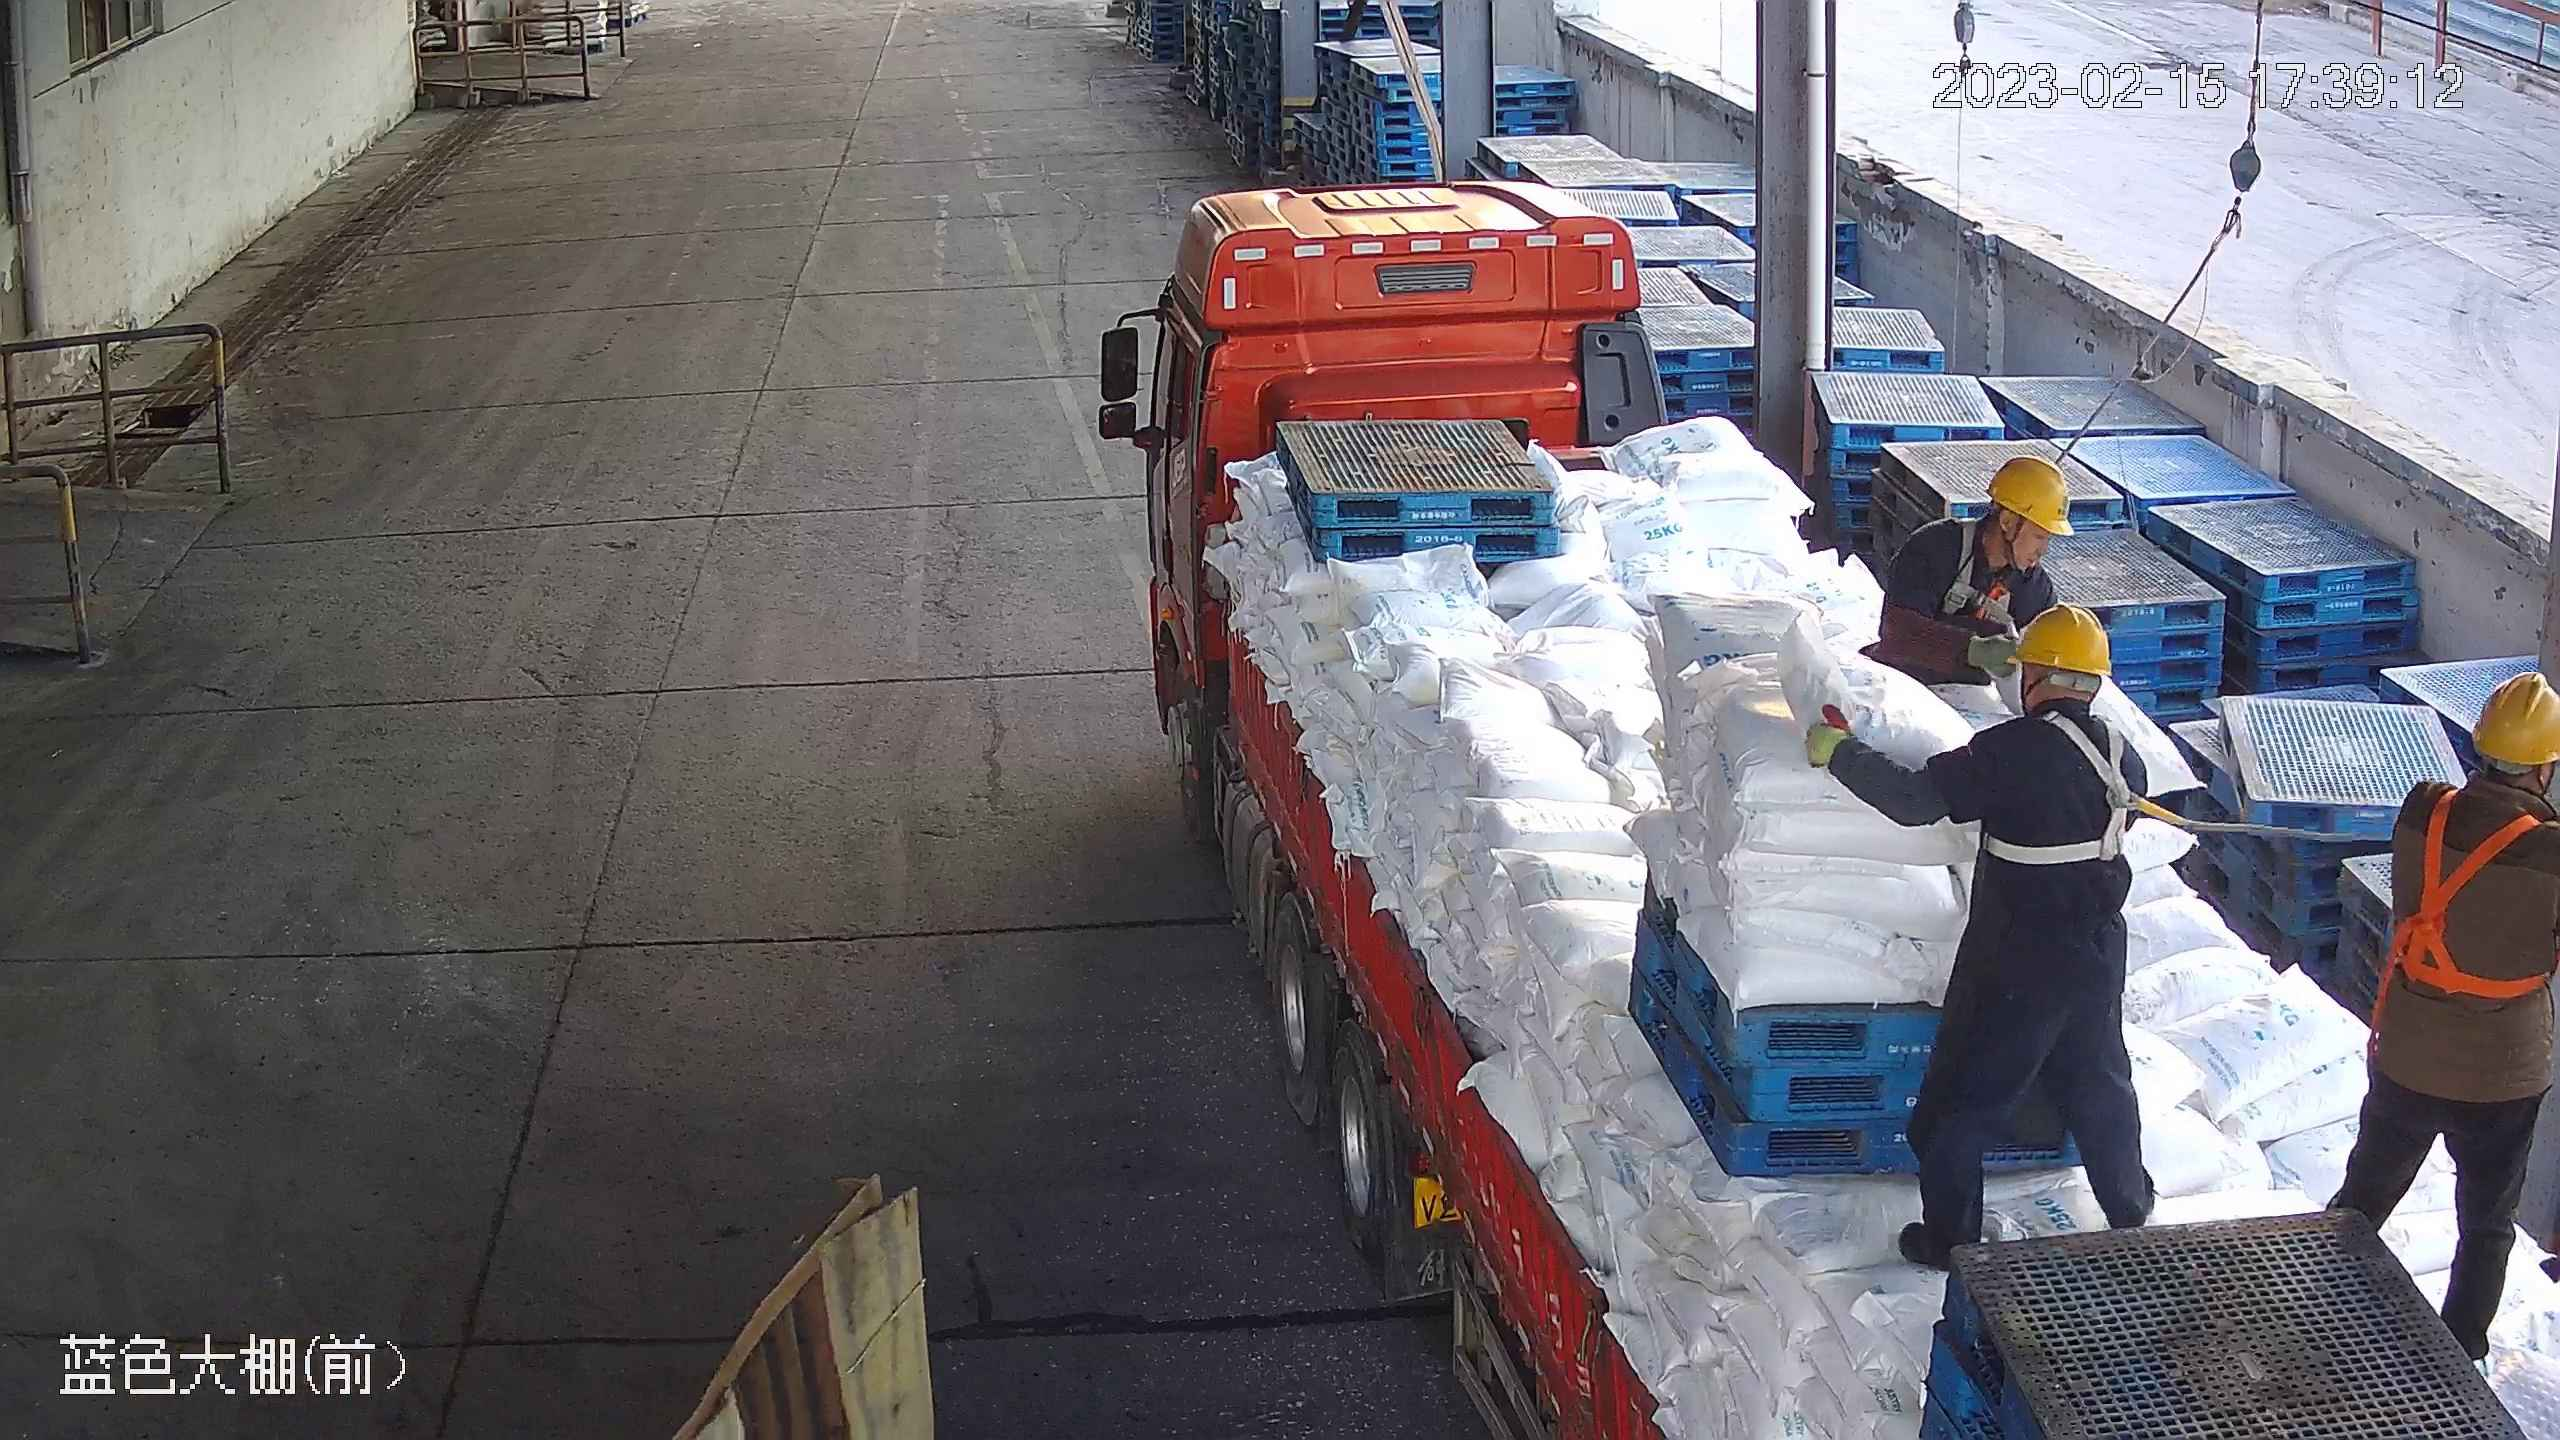belt: (2358, 785, 2560, 1069), (1980, 710, 2186, 869), (1931, 514, 2031, 628)
head: (1962, 602, 2152, 792), (2391, 671, 2560, 881), (1901, 453, 2079, 602)
helmet: (2470, 670, 2560, 768), (2006, 602, 2115, 677), (1985, 454, 2077, 539)
people: (1802, 600, 2162, 1272), (2320, 670, 2560, 1364), (1866, 454, 2077, 687)
truck: (1145, 178, 2560, 1440)
